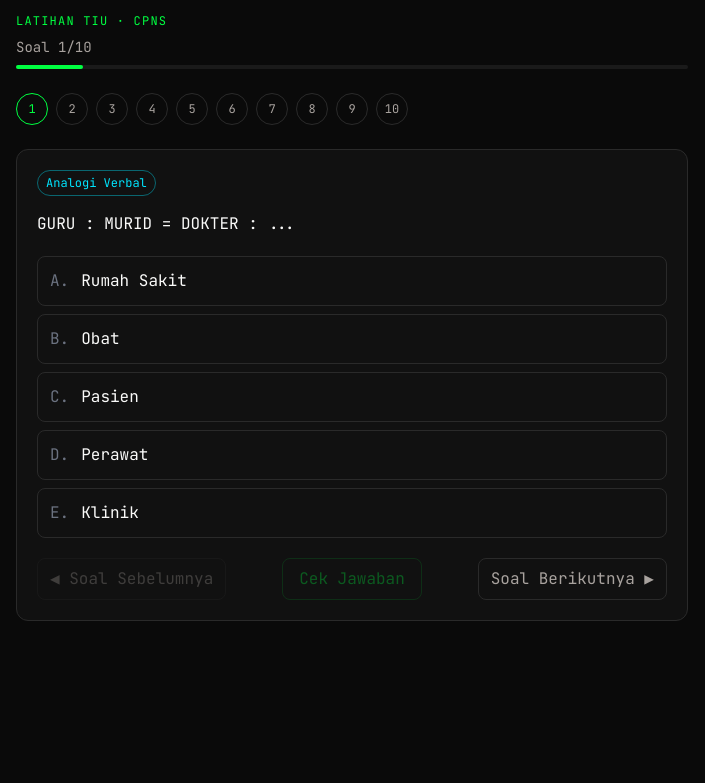
it: LatihanCpnsTiu › renders image-based stem groups and options for the figural questions, and answer-checking still works
Step 1. Click the button "9" → (352, 109), box [336,93,368,125]
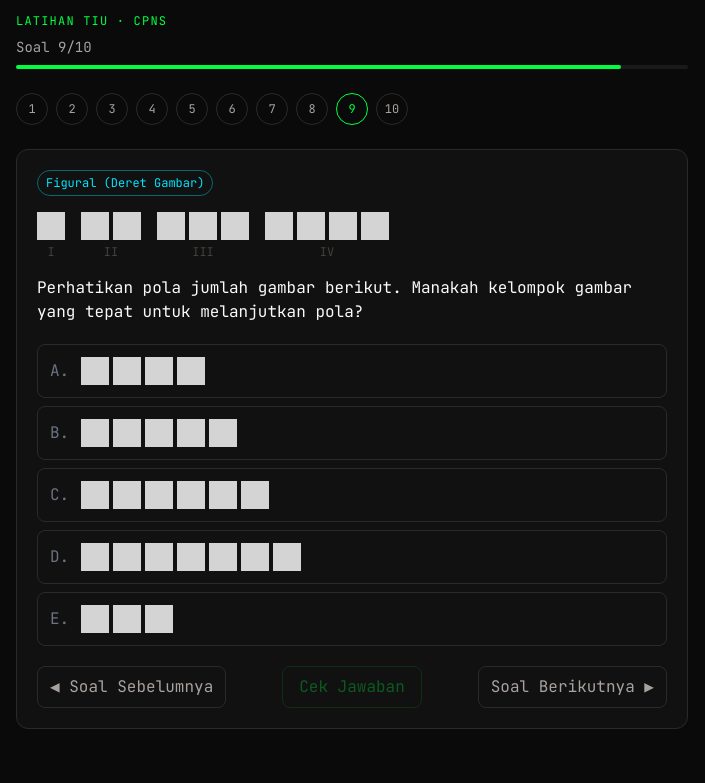
Check: the text "Figural (Deret Gambar)" is shown, box [37,170,213,196]
Step 2. Click the button with alt text "5 lingkaran merah" → (55, 432), box [37,406,667,460]
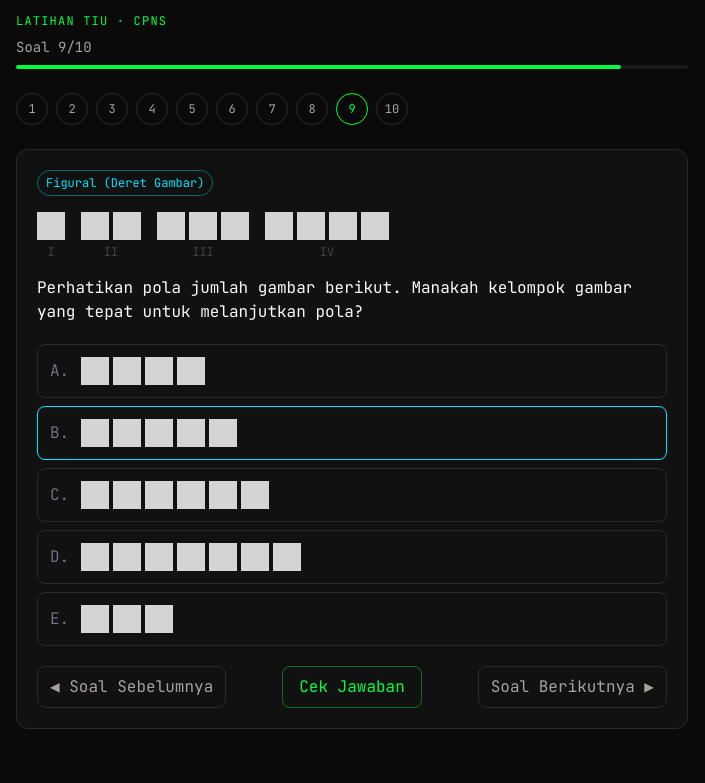
Step 3. Click the button "Cek Jawaban" → (352, 687), box [282,666,422,708]
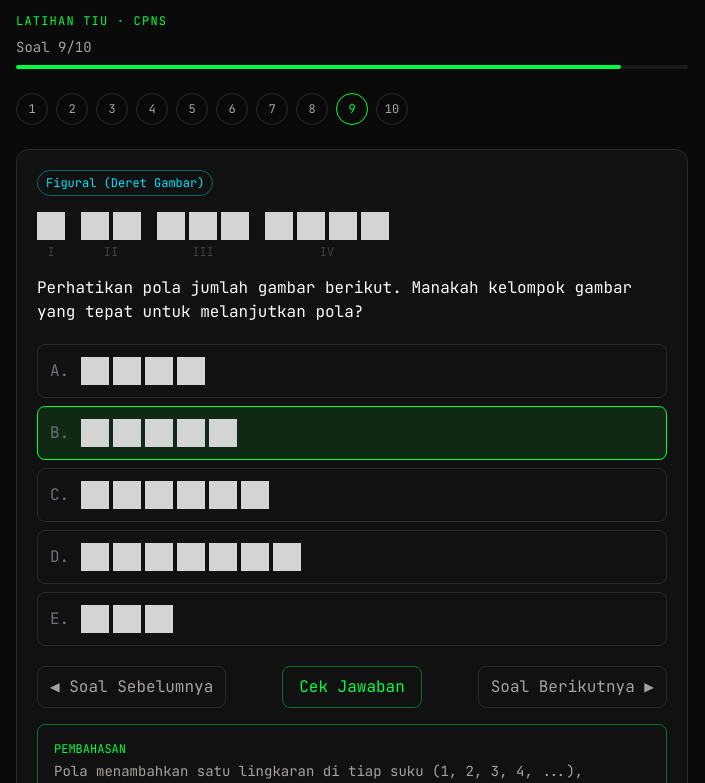
Step 4. Click the button "10" → (392, 109), box [376,93,408,125]
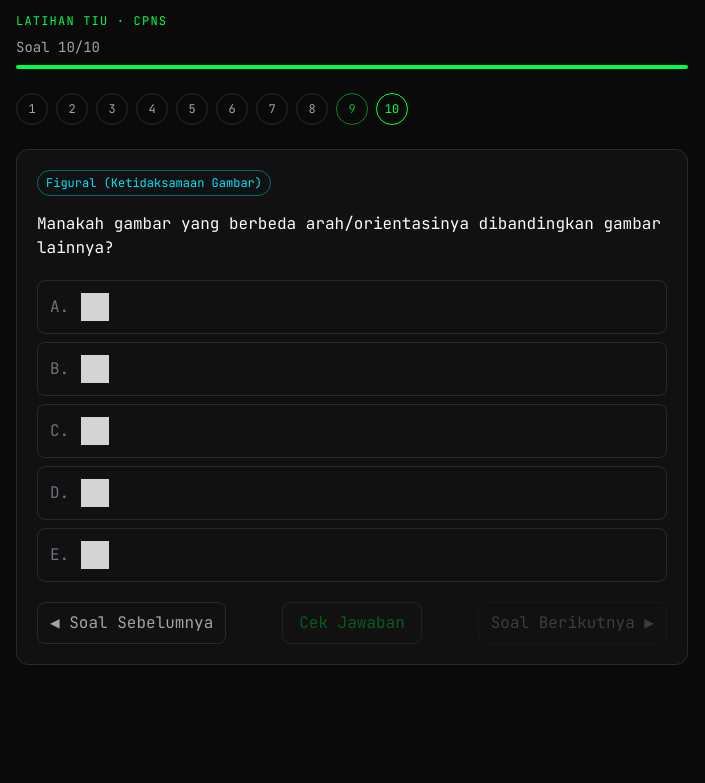
Check: the text "Figural (Ketidaksamaan Gambar)" is shown, box [37,170,271,196]
